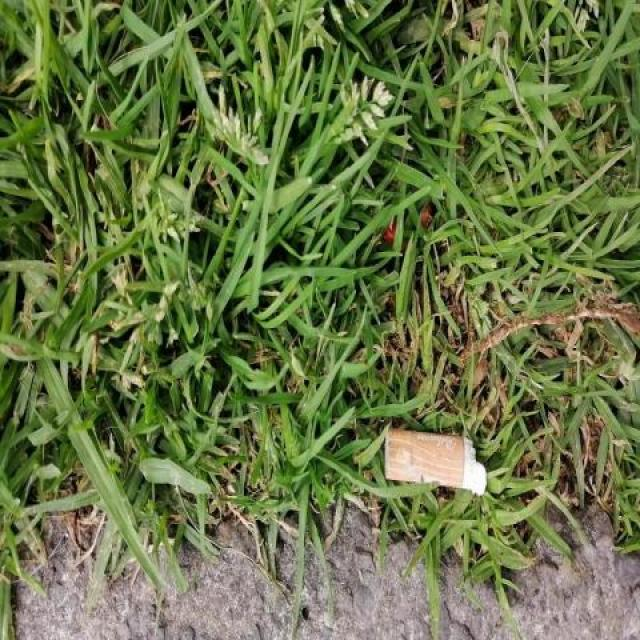non-organic waste: (378, 420, 491, 500)
